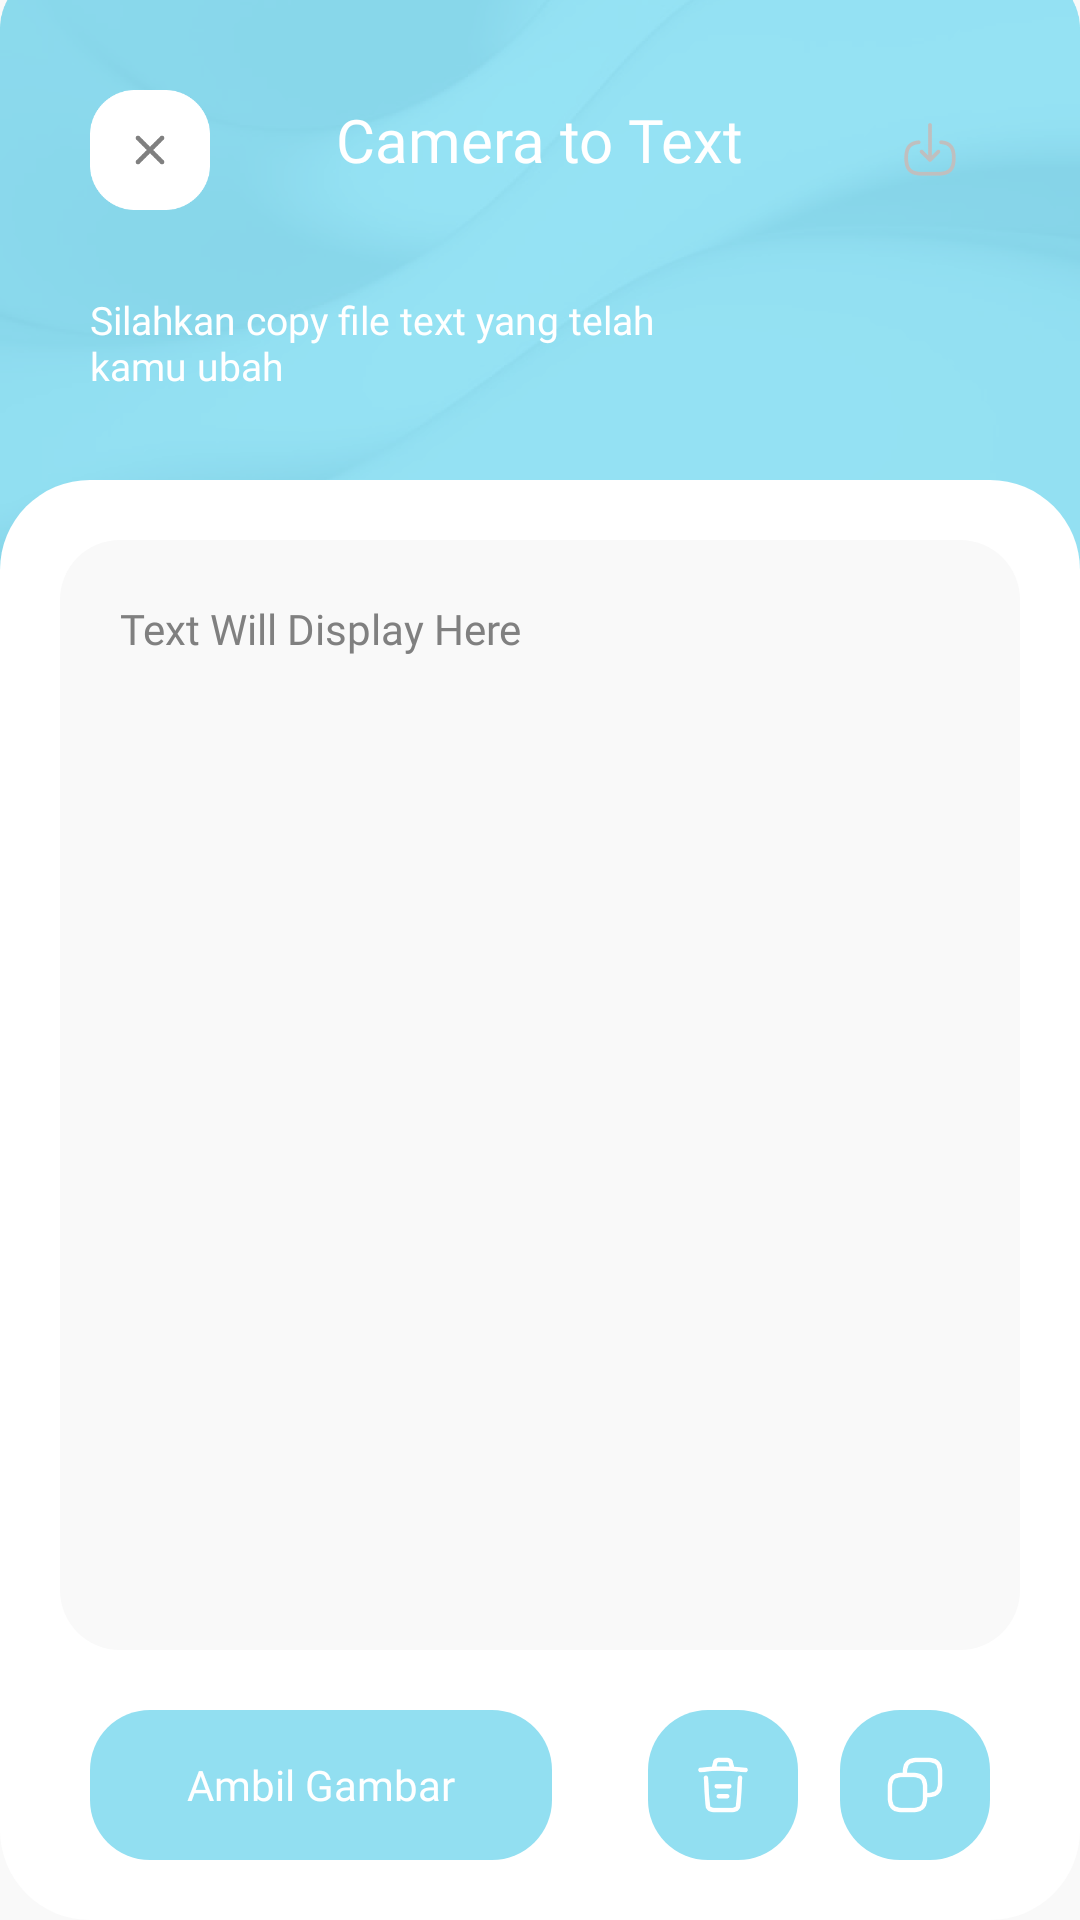

Icons on this 1080w x 1920h Android screen, each with the point to tap as point (x, y):
close: point (150, 150)
delete: point (723, 1785)
download: point (930, 149)
